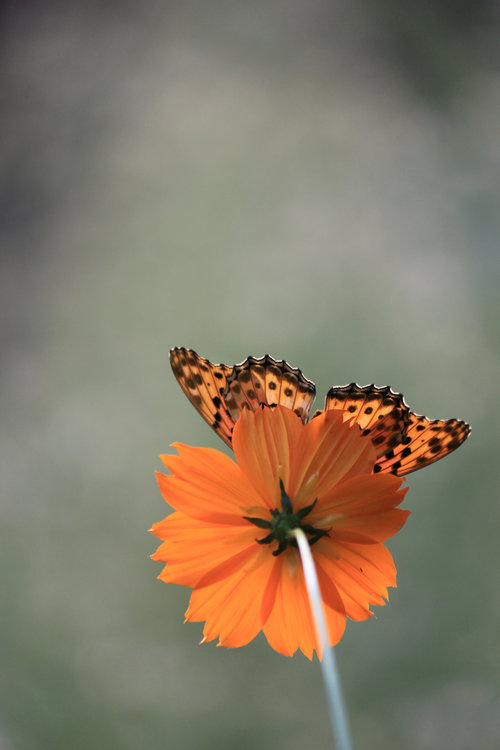Argyreus hyperbius: (167, 340, 471, 490)
butterfly: (169, 342, 473, 492)
